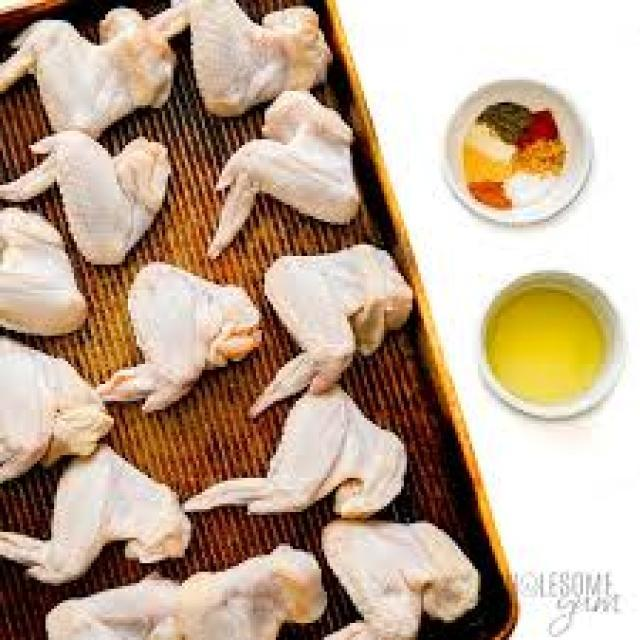wing: (200, 372, 402, 522), (258, 235, 408, 405), (204, 94, 368, 248), (5, 443, 186, 582), (99, 256, 258, 408), (12, 121, 170, 256), (0, 8, 176, 128), (316, 512, 472, 640), (168, 0, 333, 105), (44, 545, 174, 640), (0, 202, 88, 330)
